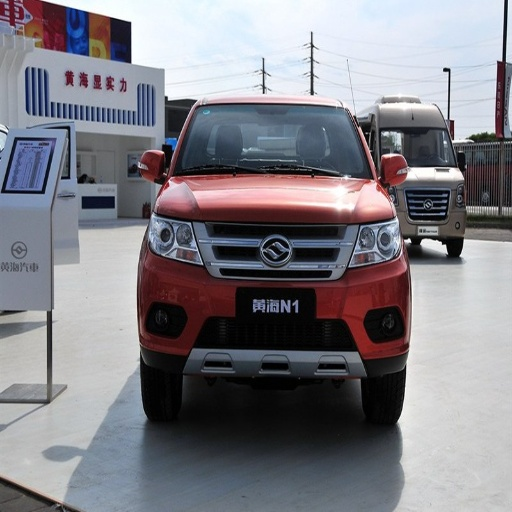back_right_light: (138, 221, 406, 385)
front_bumper: (175, 105, 370, 178)
front_left_door: (350, 218, 401, 267)
front_right_door: (147, 211, 200, 264)
front_right_light: (157, 176, 393, 223)
hood: (380, 155, 408, 179)
left_mirror: (137, 147, 167, 181)
tailgate: (2, 349, 40, 389)
trunk: (356, 370, 405, 423), (140, 362, 182, 419)
